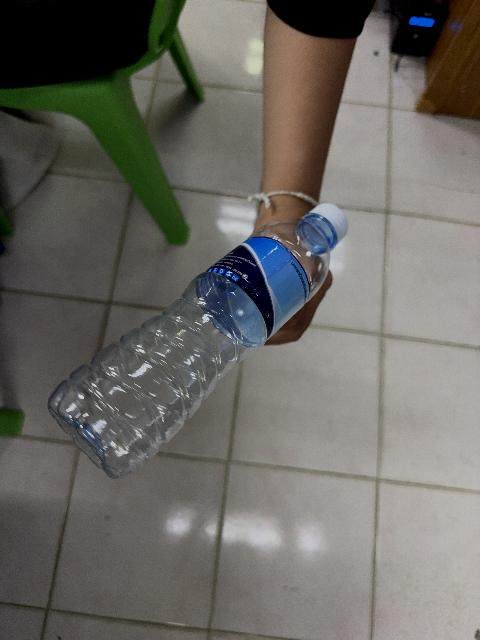bottle: (48, 204, 346, 478)
